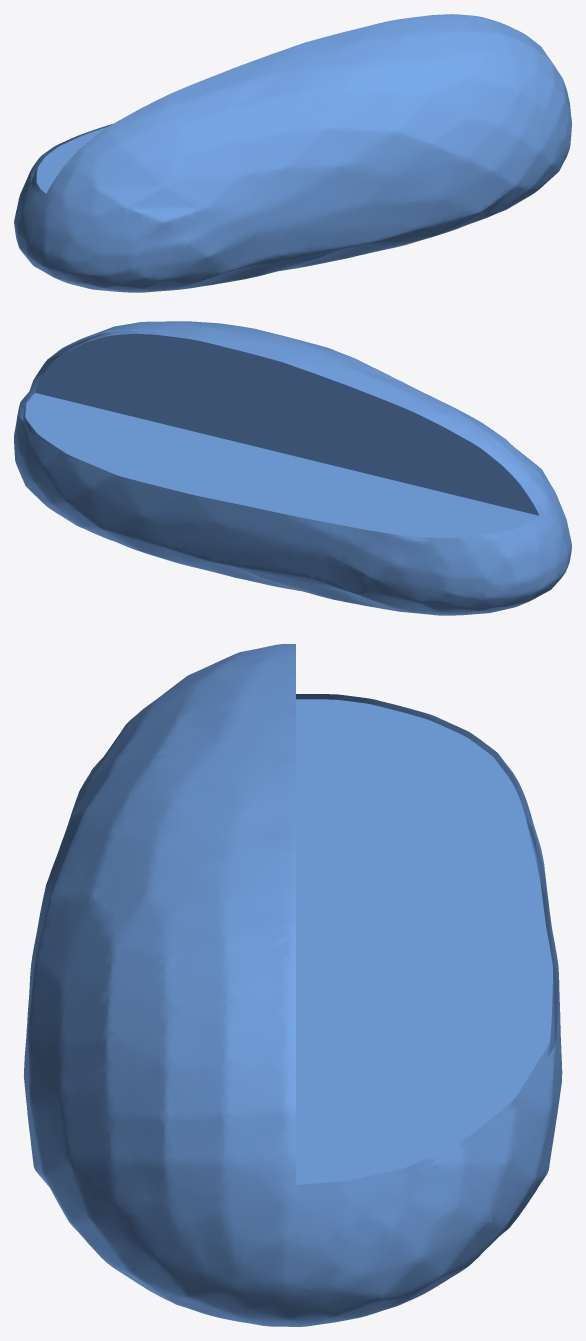
File: vacuole.glb
3 views of the same model, one above another, from view 1: azimuth 30°, elevation 25°; view 2: azimuth 150°, elevation 25°; view 3: azimuth 270°, elevation 25° (orthographic). The views are drawn at different scales.
Visible parts, largest first — view 1: Vacuole.001_1, Vacuole_0; view 2: Vacuole_0, Vacuole.001_1; view 3: Vacuole.001_1, Vacuole_0.
Part boxes in pixels (x1,y1,x2,y2): Vacuole.001_1: (14,14,571,292); Vacuole_0: (31,127,107,197); Vacuole_0: (22,331,544,539); Vacuole.001_1: (14,321,571,615); Vacuole.001_1: (23,644,562,1326); Vacuole_0: (296,699,555,1190).
Size of the model in its own units: 1.2 by 0.419 by 0.529.
